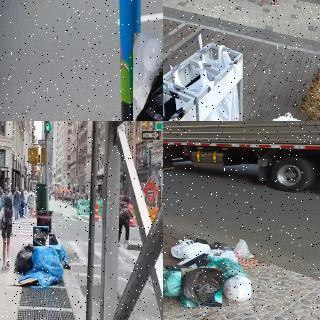Garbage: (132, 32, 163, 121), (181, 268, 222, 307), (32, 243, 66, 281), (221, 270, 256, 306), (207, 256, 249, 281), (171, 239, 210, 260), (163, 263, 188, 295), (16, 242, 35, 274), (34, 226, 50, 246), (45, 232, 59, 247)
